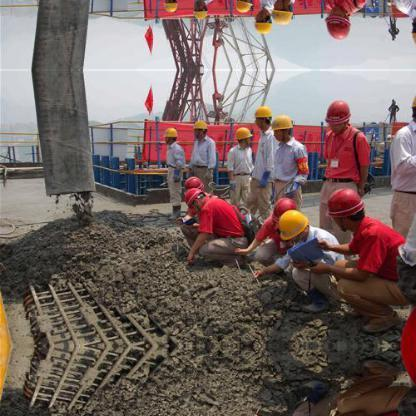helmet: (323, 184, 369, 219), (278, 209, 309, 239), (324, 98, 352, 128), (267, 194, 298, 221), (183, 186, 207, 211), (271, 113, 295, 135), (235, 126, 254, 141), (185, 178, 203, 191), (164, 124, 179, 139), (255, 108, 274, 119), (192, 118, 208, 131)
